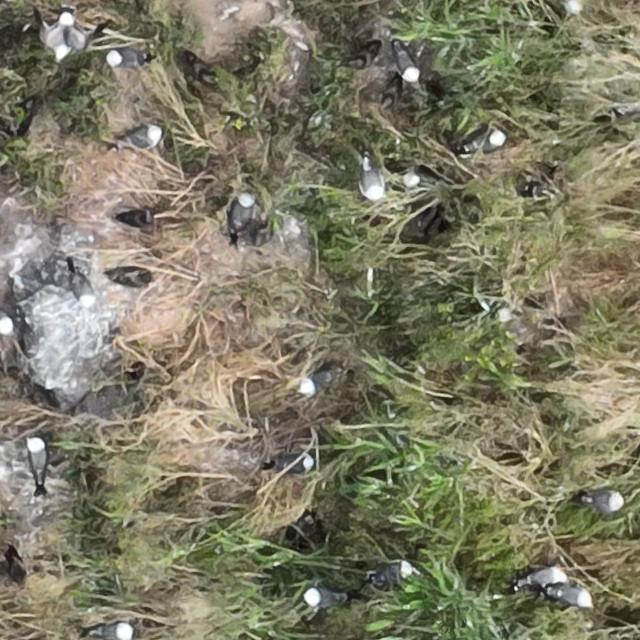F: (35, 13, 91, 61)
umineko: (517, 566, 565, 586), (373, 562, 412, 584), (362, 161, 384, 198), (553, 586, 592, 606), (122, 126, 158, 146), (300, 371, 331, 393), (588, 493, 622, 513), (232, 194, 252, 227), (304, 587, 338, 606), (397, 48, 417, 80), (471, 131, 503, 151), (28, 439, 46, 473), (110, 50, 141, 68), (286, 456, 314, 475), (391, 170, 419, 189), (75, 277, 93, 305), (92, 624, 127, 638), (0, 312, 11, 333), (563, 0, 581, 12)
